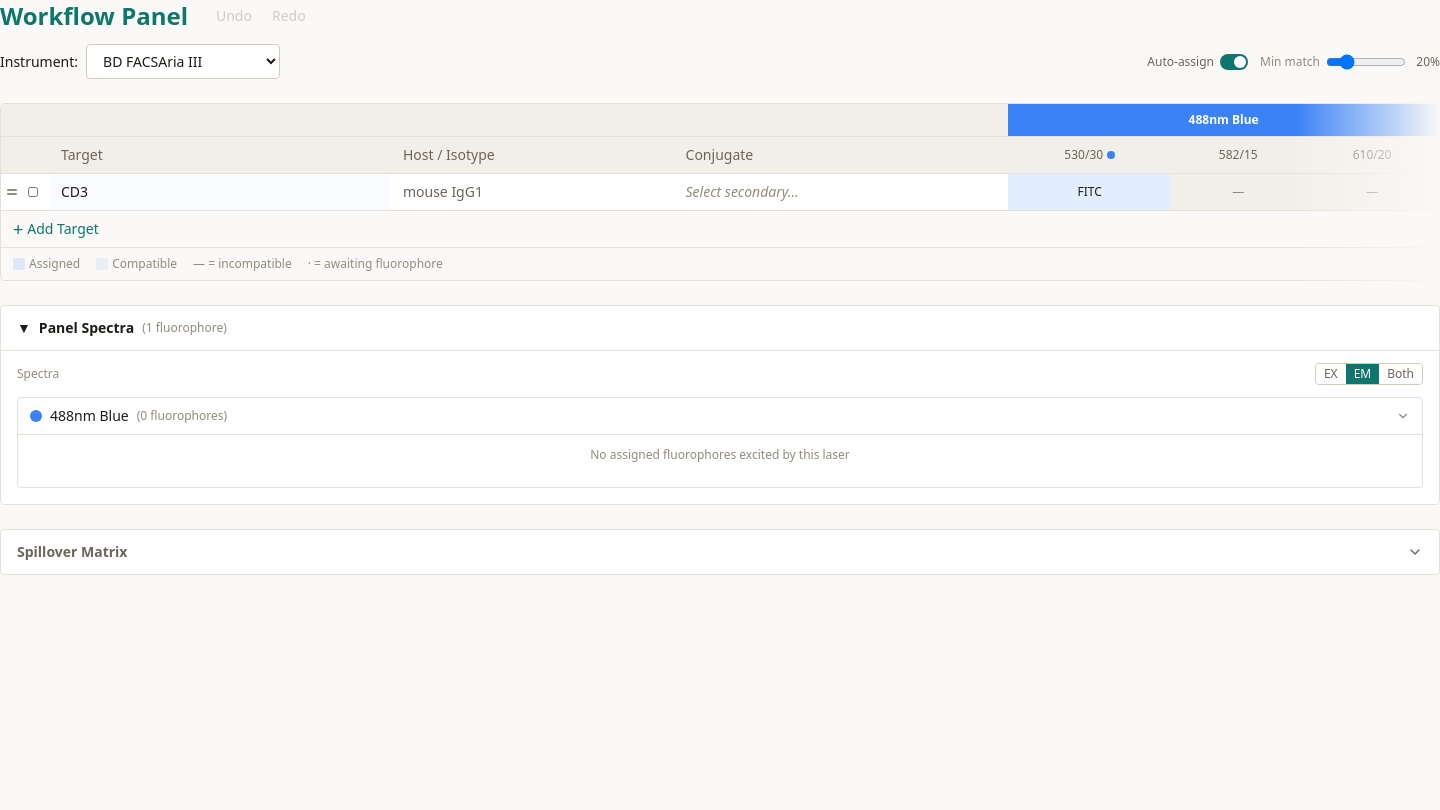
Test case: Panel Workflow Integration › change instrument shows confirmation modal with 3 options
The image size is (1440, 810).
// Change instrument
Select "Sony ID7000" in the dropdown labelled "Instrument:" at (183, 62), box left=86, top=44, right=280, bottom=79
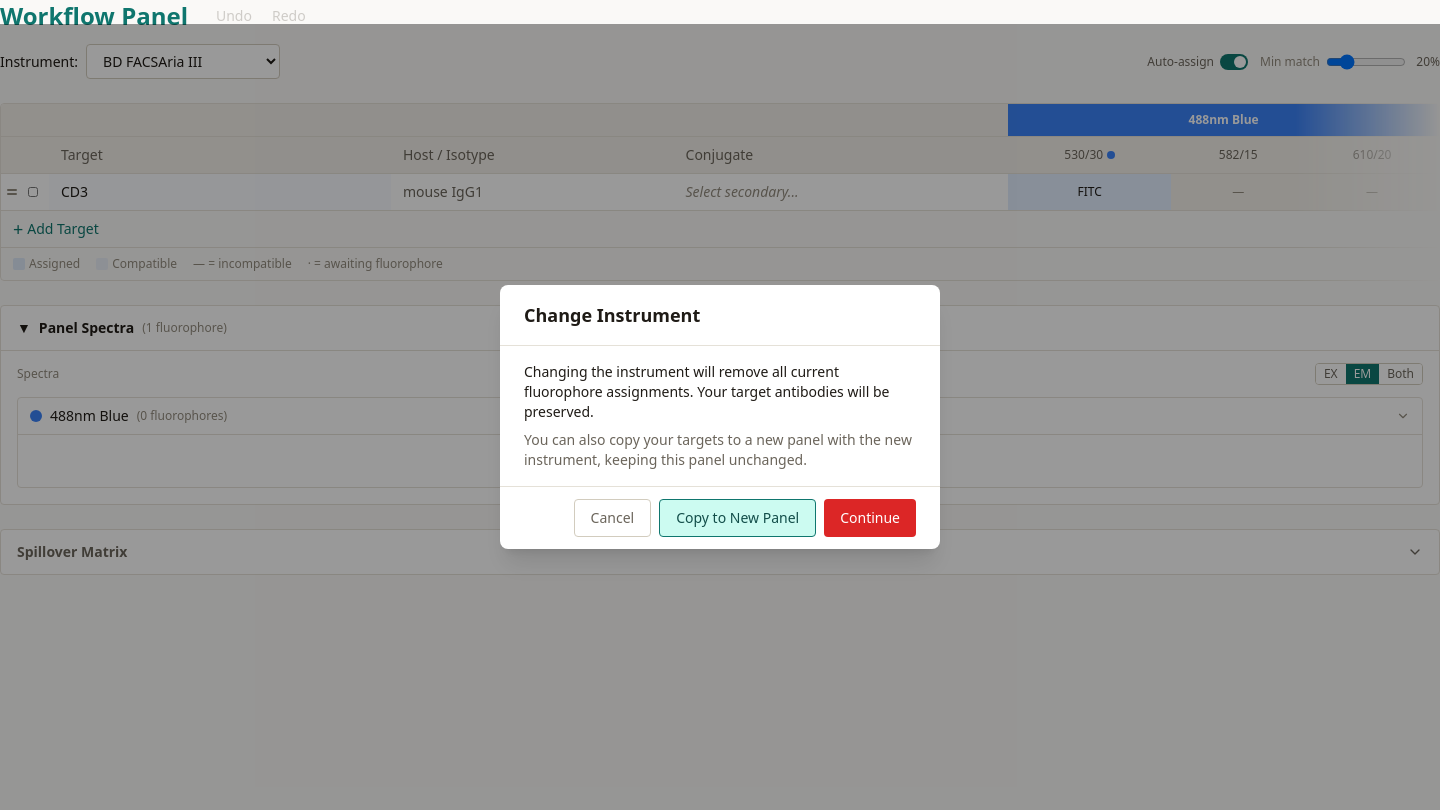
Expected: the heading "Change Instrument" is shown, left=524, top=303, right=700, bottom=327
Expected: the button "Cancel" is shown, left=574, top=499, right=651, bottom=537
Expected: the button "Copy to New Panel" is shown, left=659, top=499, right=816, bottom=537
// Click Continue
Click the button "Continue" at (870, 518), box left=824, top=499, right=916, bottom=537
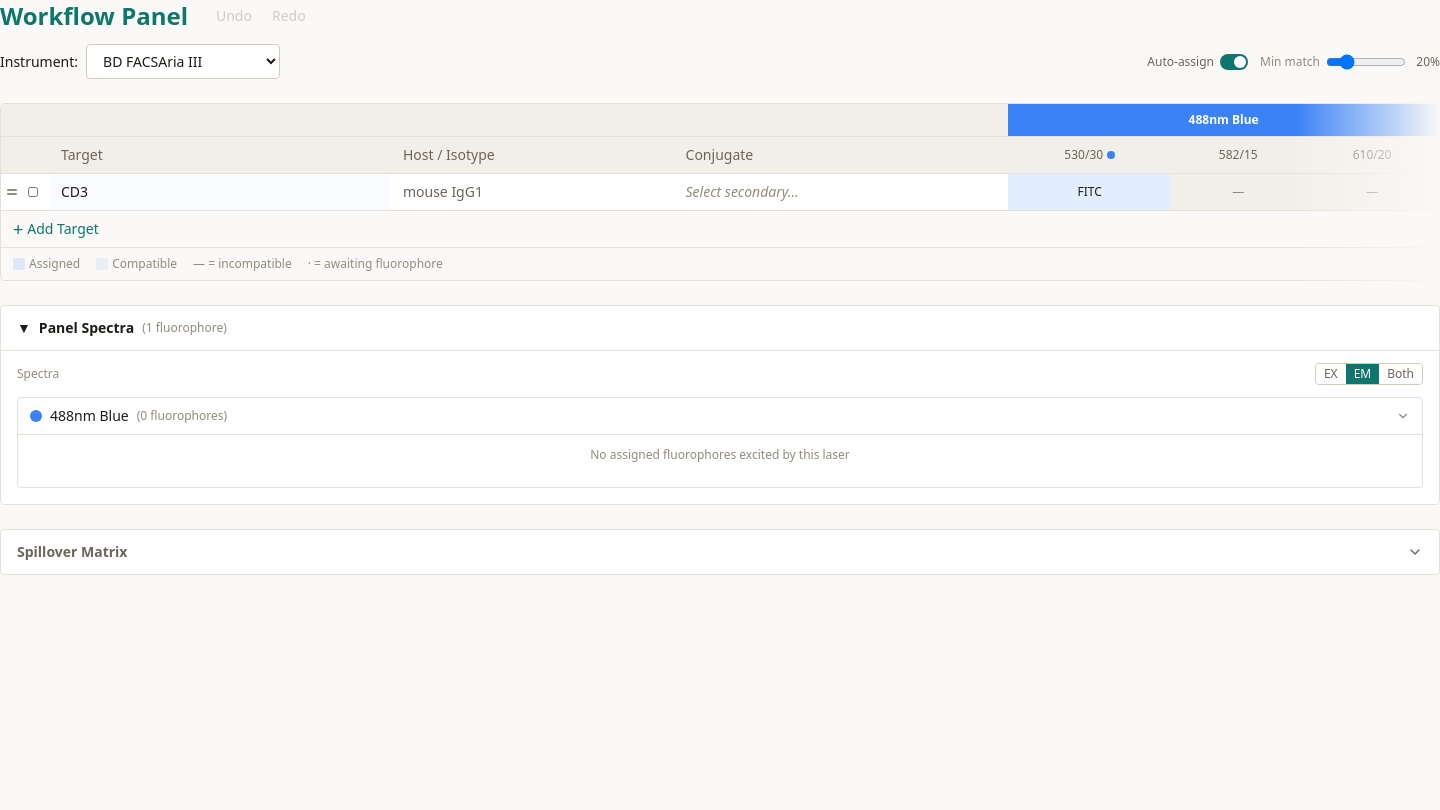
Expected: the heading "Change Instrument" is gone
